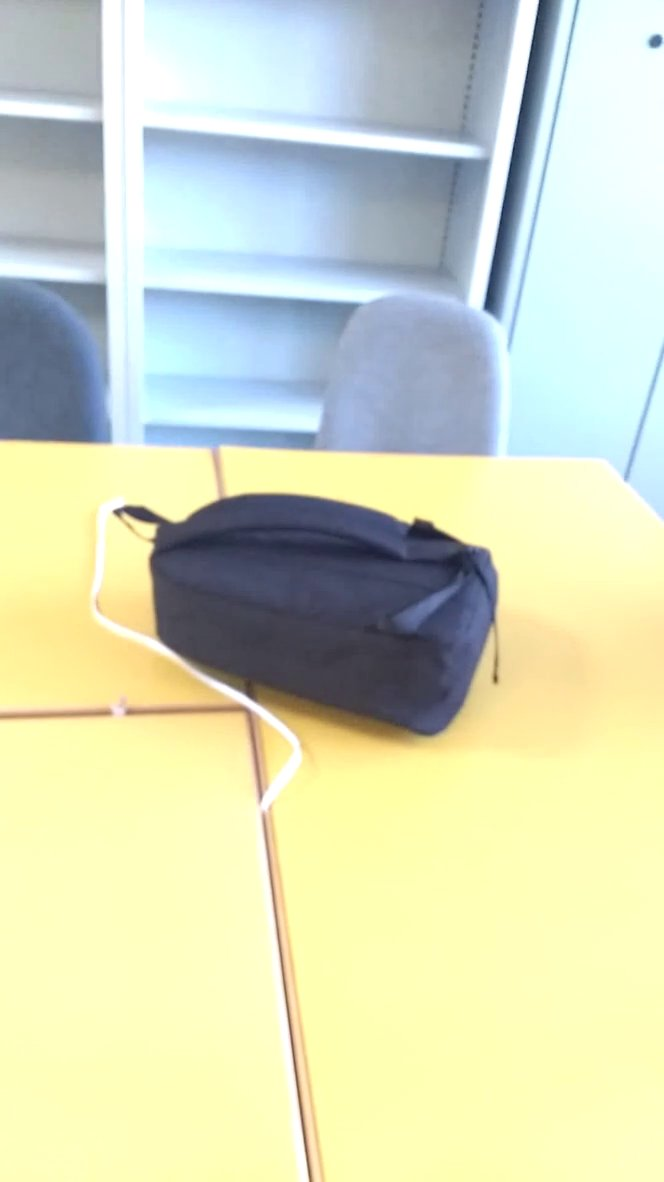bag: (108, 491, 522, 757)
chair: (310, 281, 515, 478)
